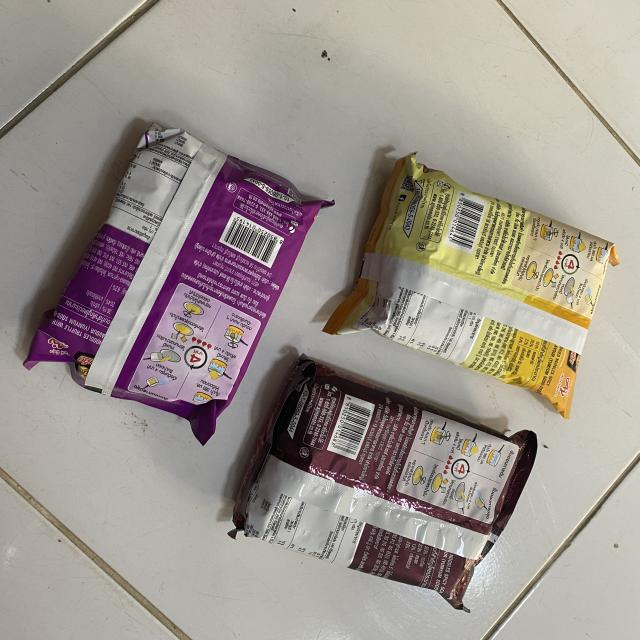plastik: (25, 125, 331, 444), (324, 154, 619, 419), (232, 355, 536, 610)
